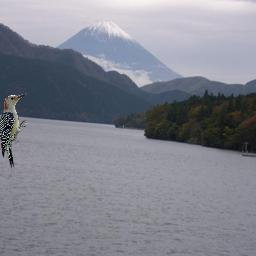Woodpecker: (0, 92, 28, 171)
